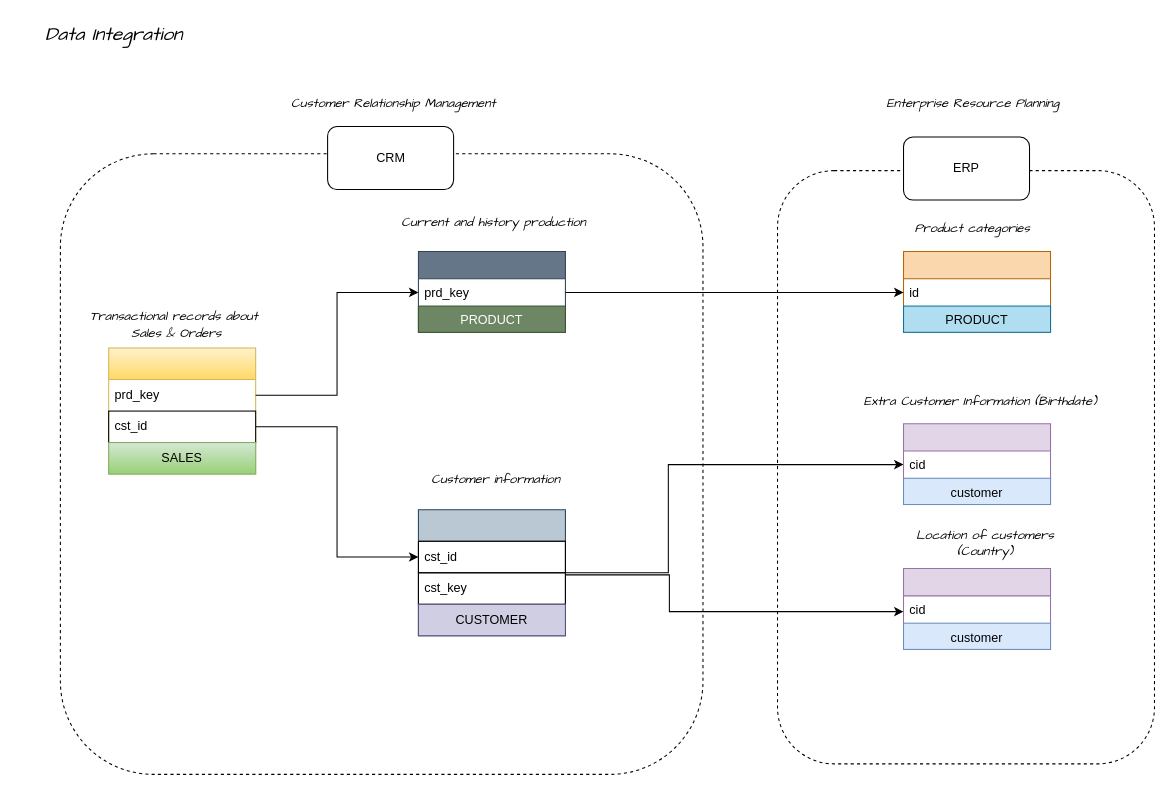
Image size: 1173x793. Some labels were removed from this diagram. The box of each missing label's shape, as (x1, y1, x2, y2) in pixels:
crm_cust_info: (417, 509, 565, 636)
crm_prd_info: (417, 250, 565, 332)
crm_sales_Details: (108, 347, 256, 474)
erp_cust_az12: (902, 423, 1051, 505)
erp_loc_a101: (902, 568, 1051, 649)
erp_px_cat_g1v2: (902, 250, 1051, 332)
